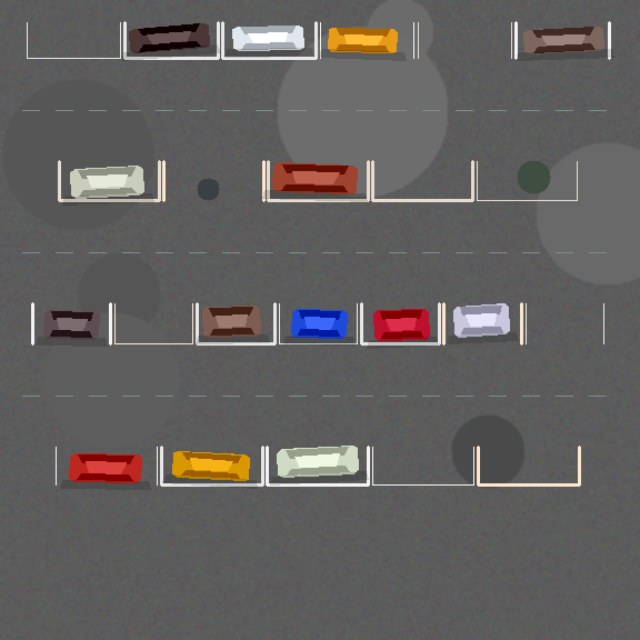space-empty: (163, 161, 263, 200), (372, 161, 472, 200), (477, 161, 577, 200), (372, 447, 473, 484), (478, 447, 579, 484), (27, 22, 120, 58), (418, 22, 511, 58), (114, 303, 192, 343), (526, 303, 603, 343)
space-occupied: (59, 161, 159, 200), (268, 161, 368, 200), (56, 447, 157, 484), (161, 447, 262, 484), (267, 447, 368, 484), (124, 22, 218, 58), (222, 22, 316, 58), (320, 22, 413, 58), (516, 22, 609, 58), (32, 303, 110, 343), (279, 303, 357, 343), (361, 303, 439, 343), (443, 303, 521, 343), (197, 303, 274, 343)
